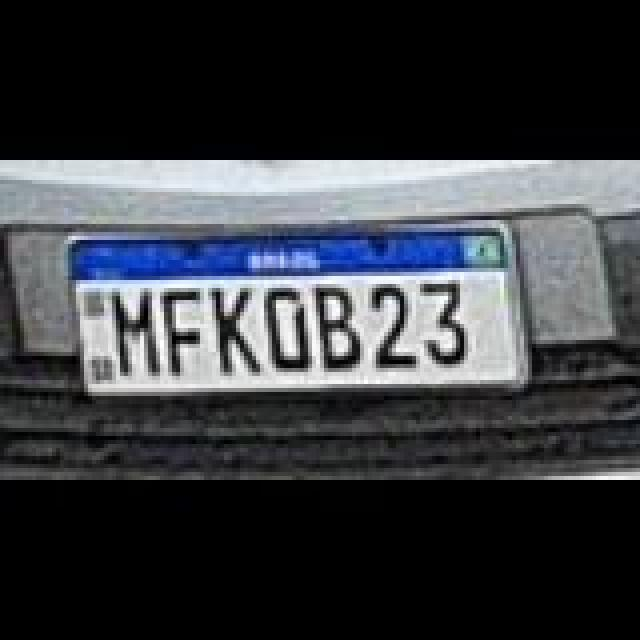2: (370, 284, 422, 372)
3: (420, 280, 468, 368)
B: (314, 284, 366, 372)
D: (262, 288, 314, 376)
F: (160, 288, 208, 376)
K: (210, 288, 262, 376)
M: (110, 292, 162, 380)
